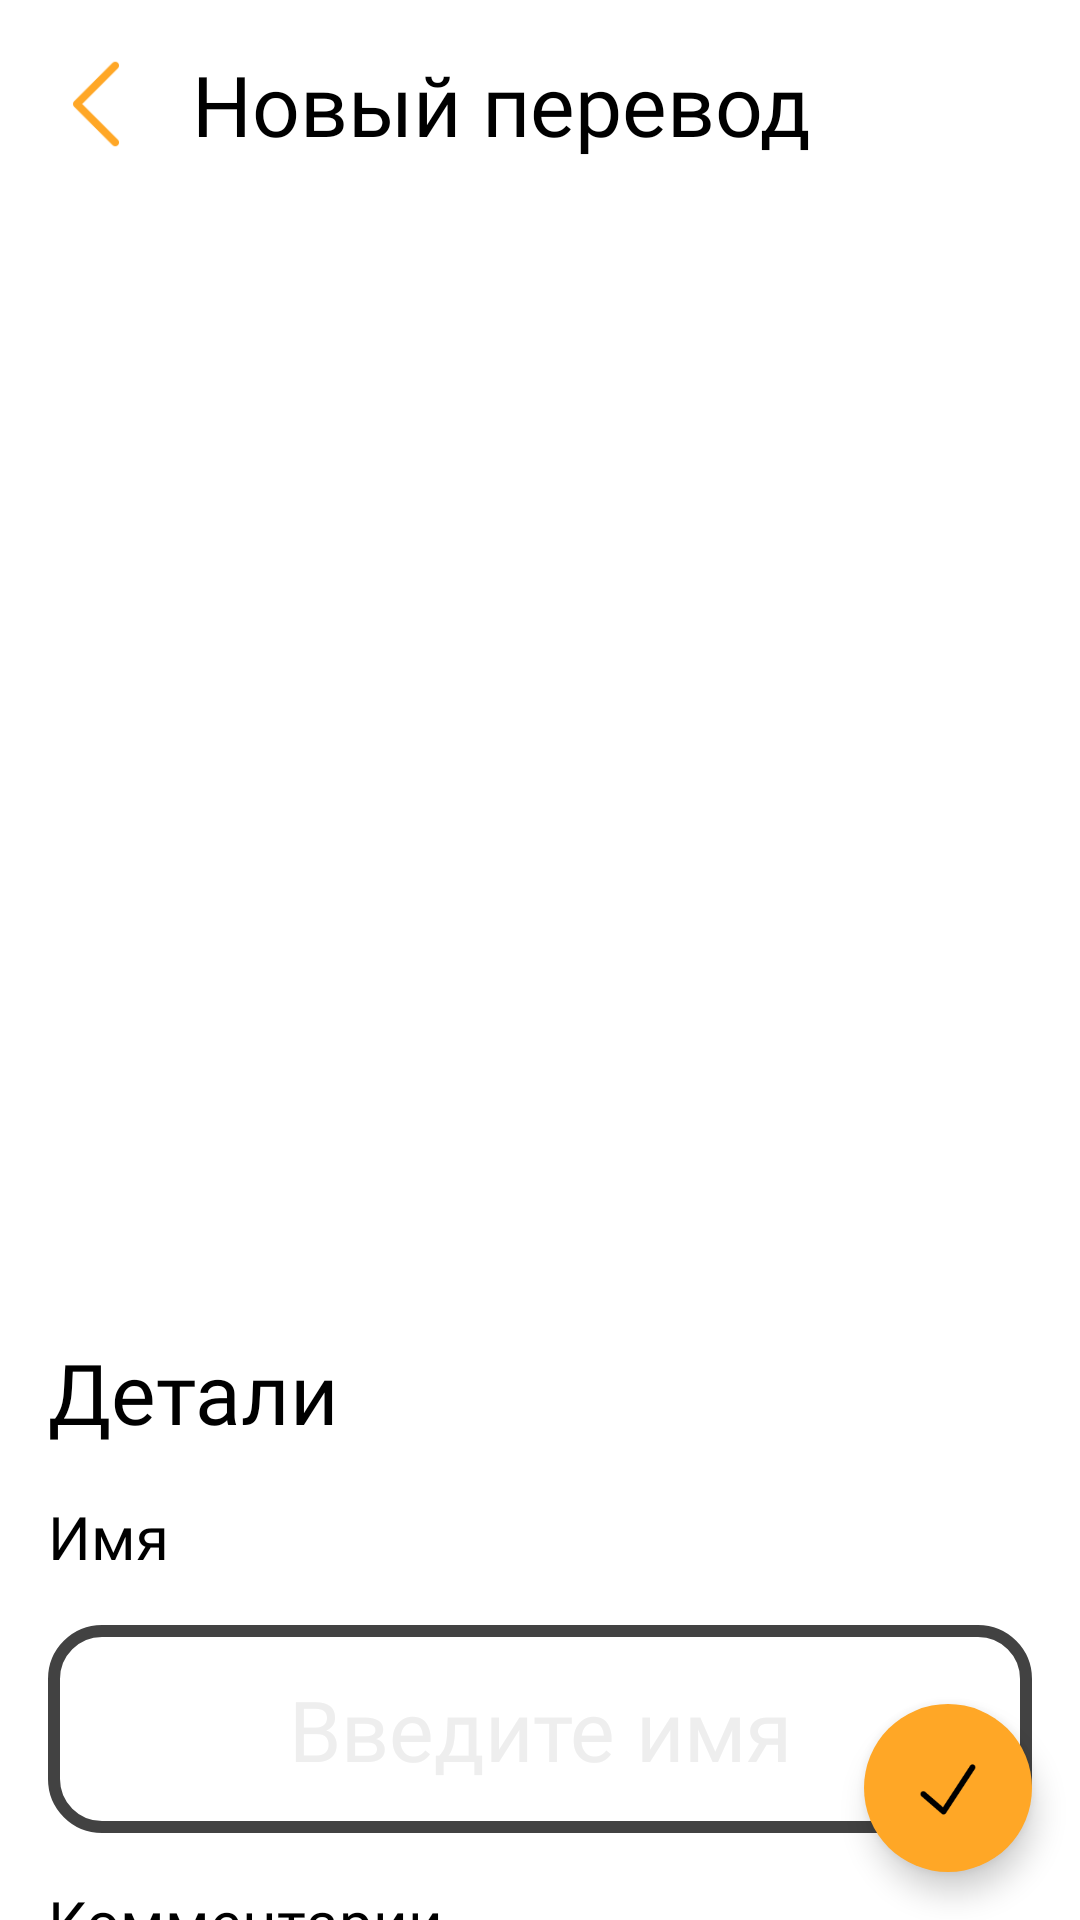

Screen size 1080w x 1920h. Icon name, then its box in pixels as bbox=(x1, y1, x2, y2):
back: bbox=(73, 61, 119, 147)
done: bbox=(864, 1704, 1032, 1872)
